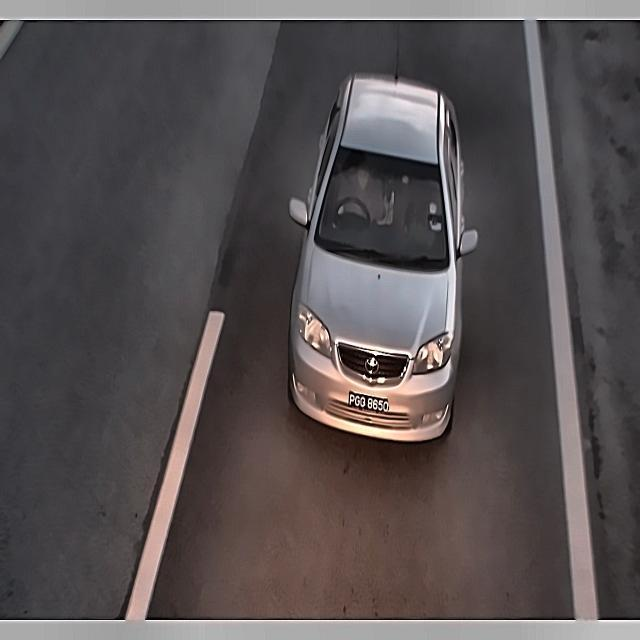car: (342, 386, 392, 420)
